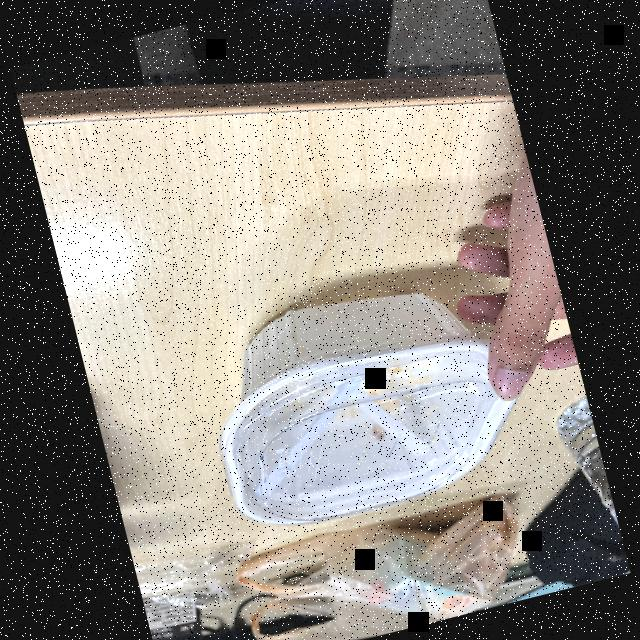plastic_box: (178, 259, 548, 546)
